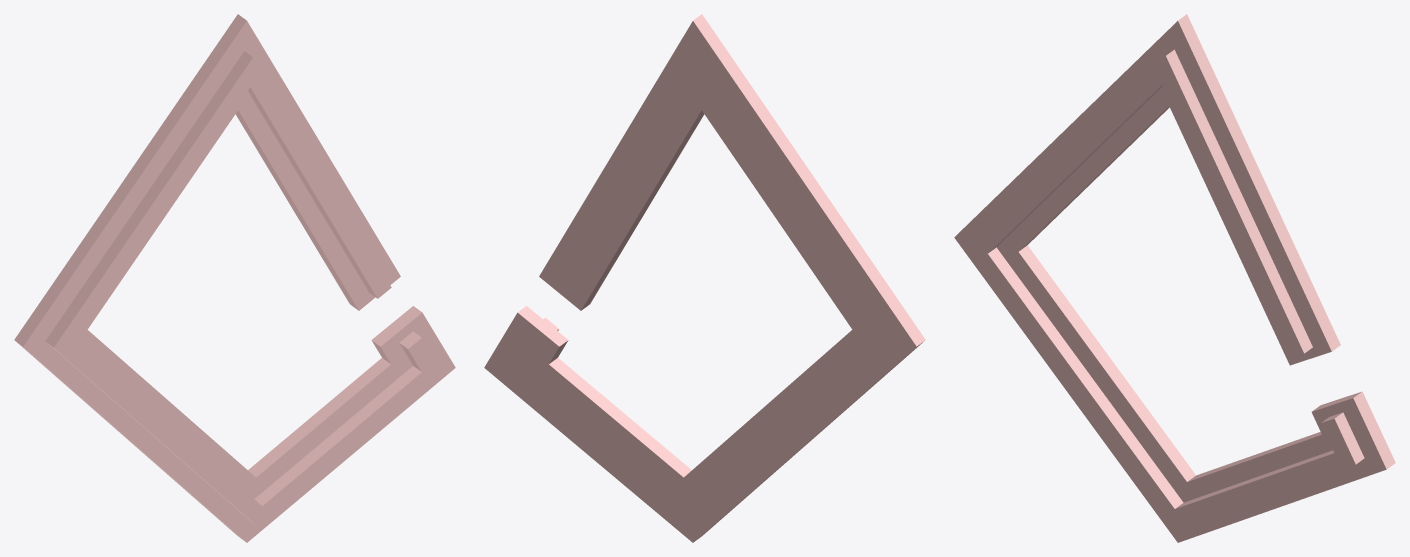
Rendered from 04-hedmanska.glb.
3 renders of one model, left to right at view 1: azimuth 30°, elevation 25°; view 2: azimuth 150°, elevation 25°; view 3: azimuth 330°, elevation 25°, orthographic.
Bounding box in the file's own units: 1222 × 1410 × 89.68.
